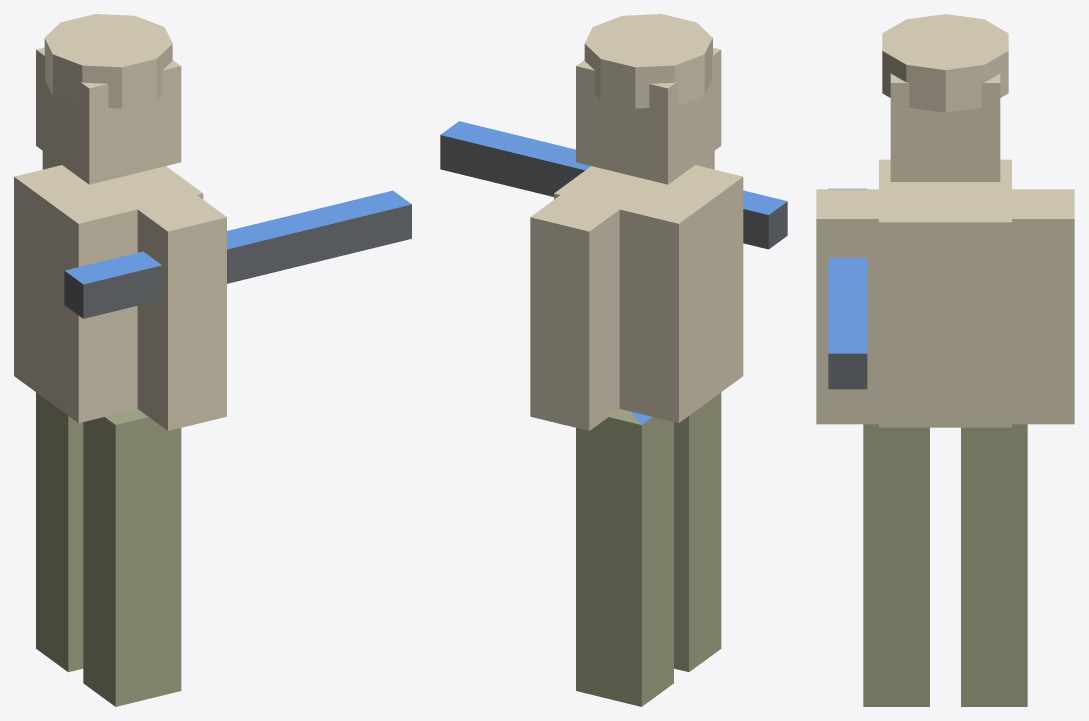
Rendered from meridian_rocket_trooper.glb.
3 views of the same model, side by side, from view 1: azimuth 30°, elevation 25°; view 2: azimuth 150°, elevation 25°; view 3: azimuth 270°, elevation 25° (orthographic). The views are drawn at different scales.
Parts seen in each view (by area): view 1: arm_r, leg_r, torso, head, leg_l; view 2: torso, leg_l, head, arm_l, leg_r, arm_r; view 3: torso, head, leg_l, leg_r, arm_r, arm_l.
Boxes of the visible parts, x1,y1,x2,y2 form: arm_r: (64,190,411,430); leg_r: (83,409,181,706); torso: (14,165,203,423); head: (36,14,181,184); leg_l: (36,392,83,672); torso: (554,165,743,423); leg_l: (576,409,673,706); head: (576,14,721,184); arm_l: (530,195,619,430); leg_r: (674,392,721,671); arm_r: (440,121,787,249); torso: (879,159,1011,427); head: (882,14,1008,181); leg_l: (961,424,1027,706); leg_r: (863,424,929,706); arm_r: (816,188,878,424); arm_l: (1012,189,1074,424).
Size of the model in its own units: 1 by 1.83 by 0.66.
